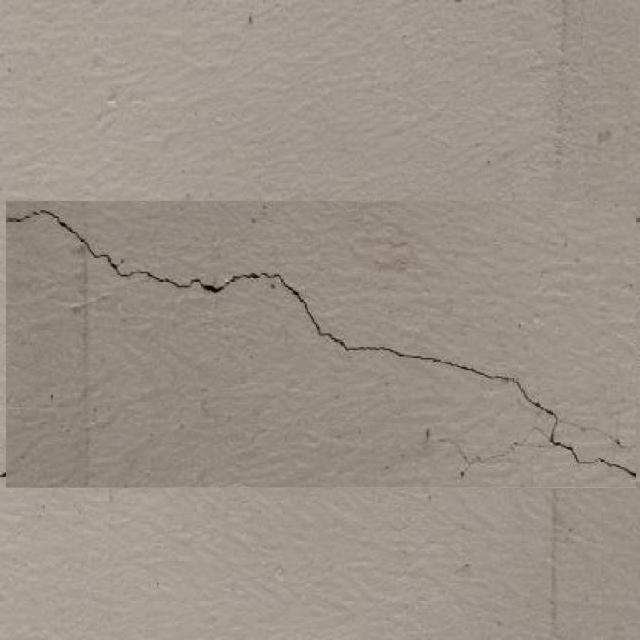diagonal crack: (6, 201, 636, 486)
